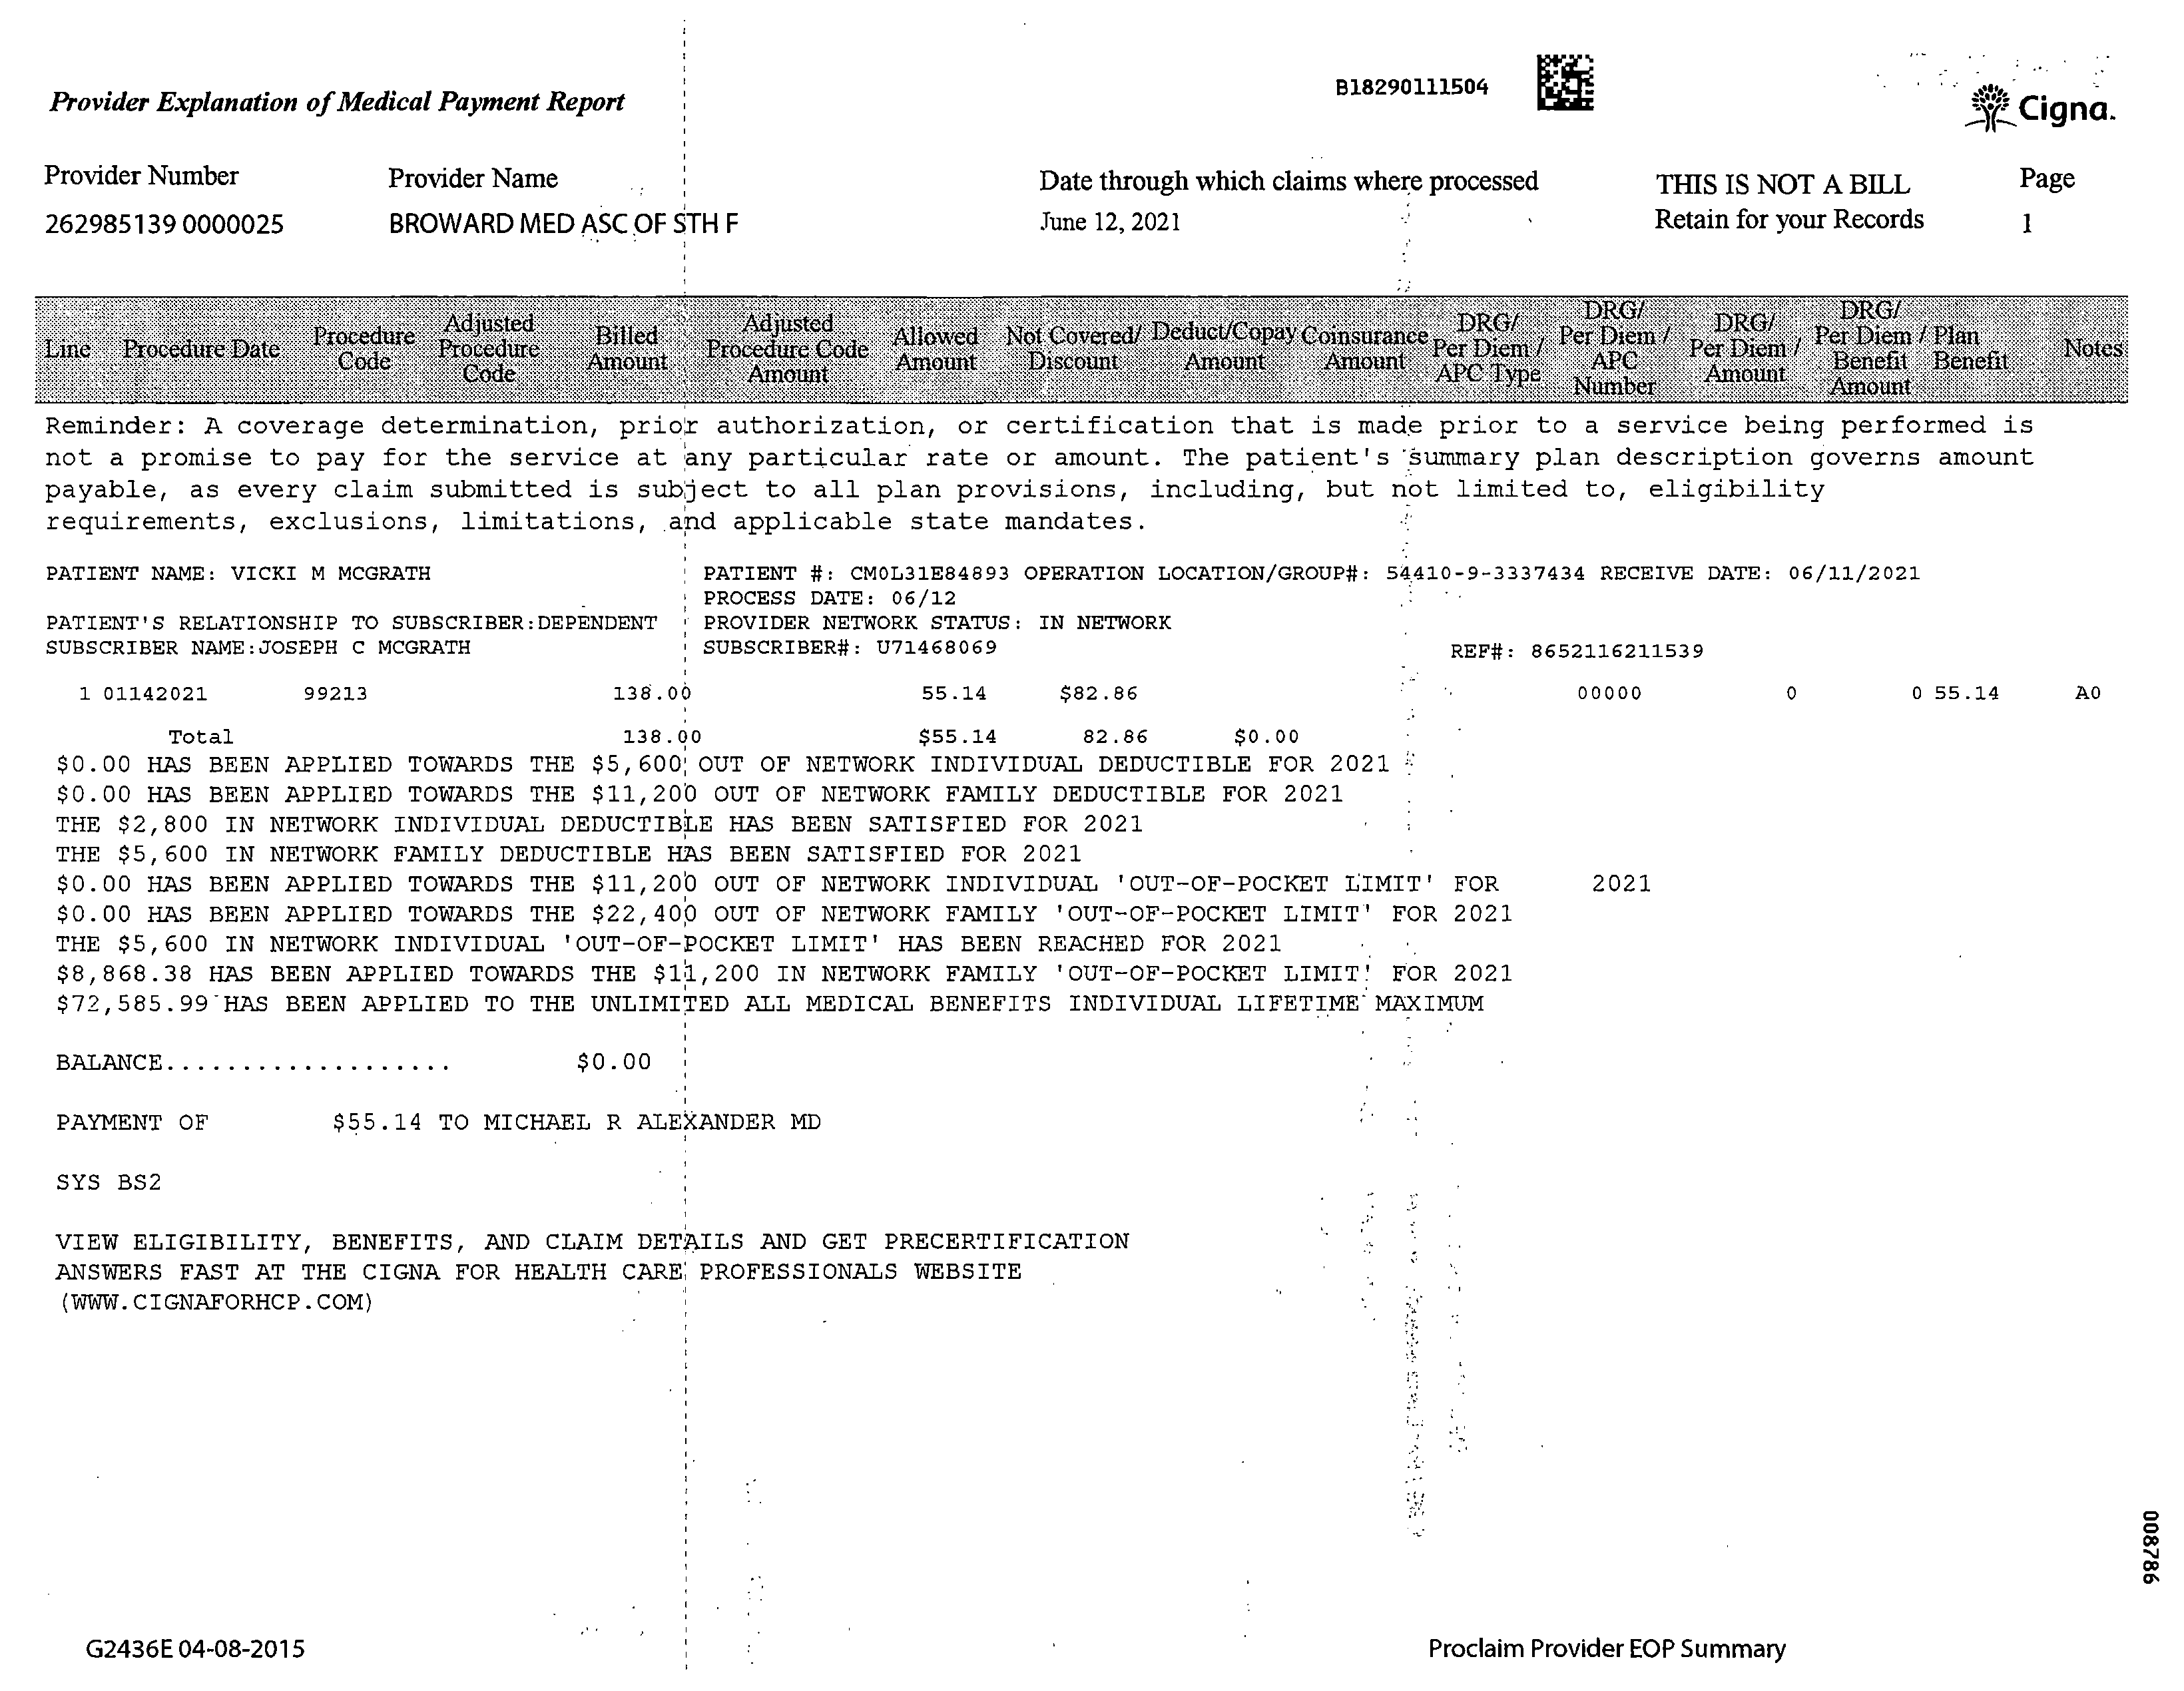data: (32, 147, 768, 259)
